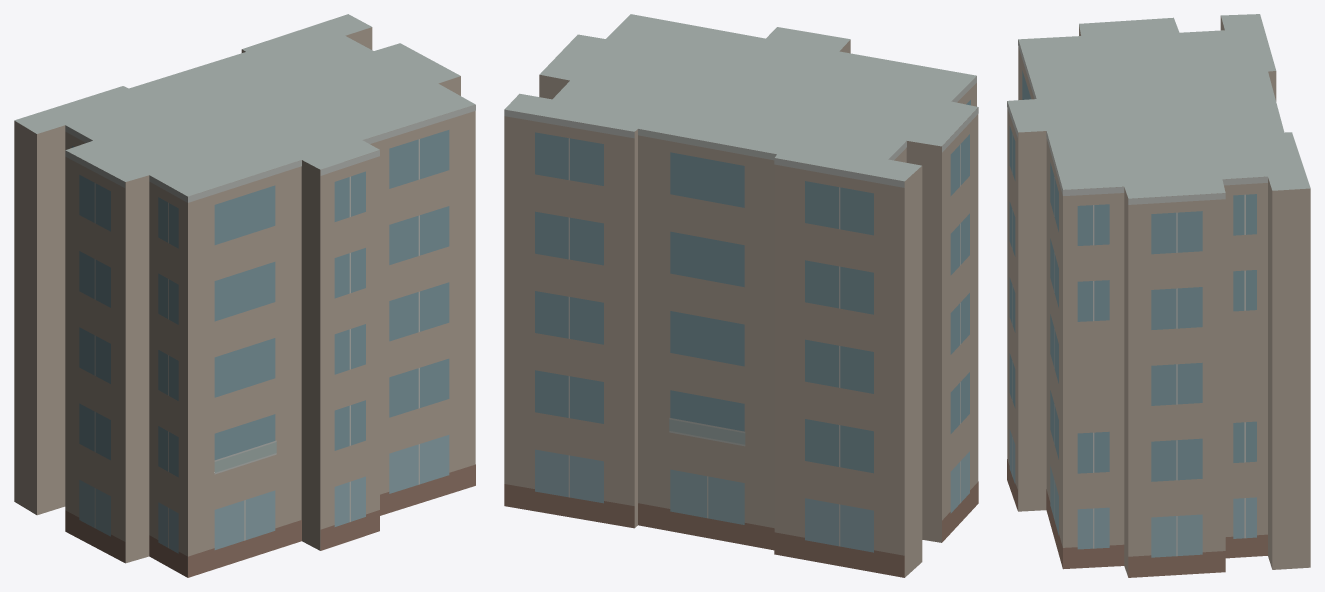
The model's file is survey-upis-32697944.glb.
3 renders of one model, left to right at view 1: azimuth 30°, elevation 25°; view 2: azimuth 150°, elevation 25°; view 3: azimuth 270°, elevation 25°, orthographic. The views are drawn at different scales.
Parts seen in each view (by area): view 1: survey-upis-32697944.tmp; view 2: survey-upis-32697944.tmp; view 3: survey-upis-32697944.tmp.
Part boxes in pixels (x1,y1,x2,y2): survey-upis-32697944.tmp: [14, 14, 475, 577]; survey-upis-32697944.tmp: [504, 14, 978, 577]; survey-upis-32697944.tmp: [1007, 14, 1310, 577].
Bounding box in the file's own units: 15.36 × 14.7 × 10.67.
